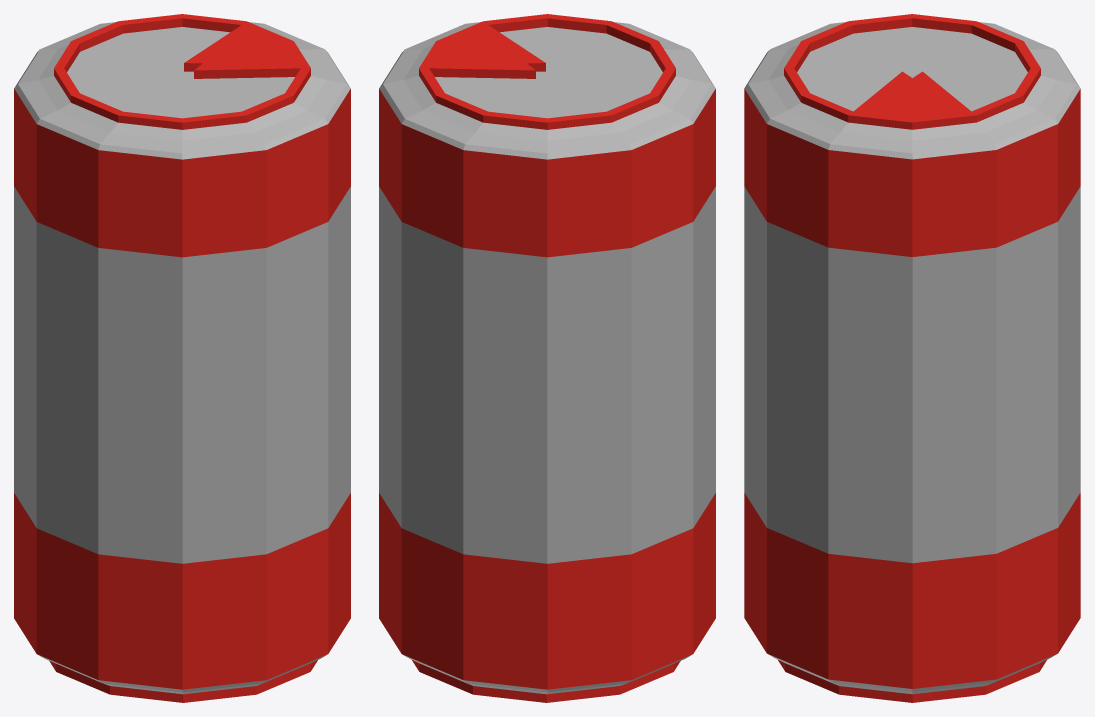
File: coffee_can.glb
The picture shows the model from 3 angles, left to right: view 1: azimuth 30°, elevation 25°; view 2: azimuth 150°, elevation 25°; view 3: azimuth 270°, elevation 25°; orthographic projection.
Parts seen in each view (by area): view 1: Cylinder; view 2: Cylinder; view 3: Cylinder.
Part boxes in pixels (bbox=[...]): Cylinder: bbox=[14, 14, 350, 702]; Cylinder: bbox=[379, 14, 715, 702]; Cylinder: bbox=[744, 14, 1080, 702].
Bounding box in the file's own units: 2 × 3.75 × 2.
